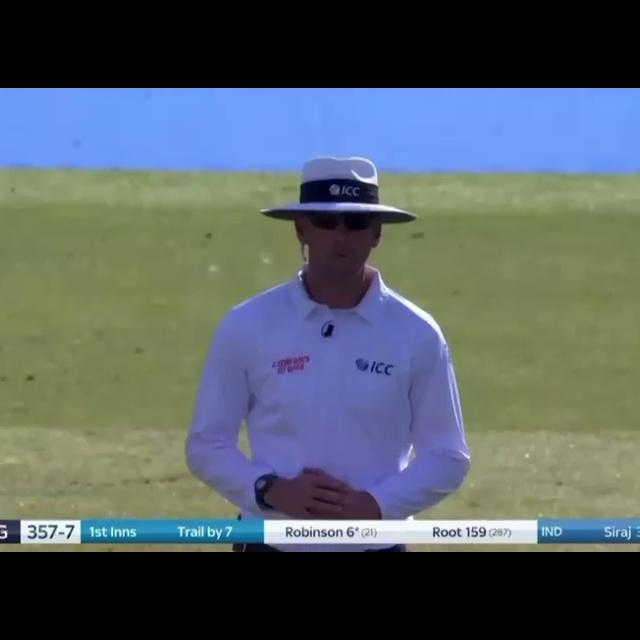umpire: (185, 141, 476, 550)
